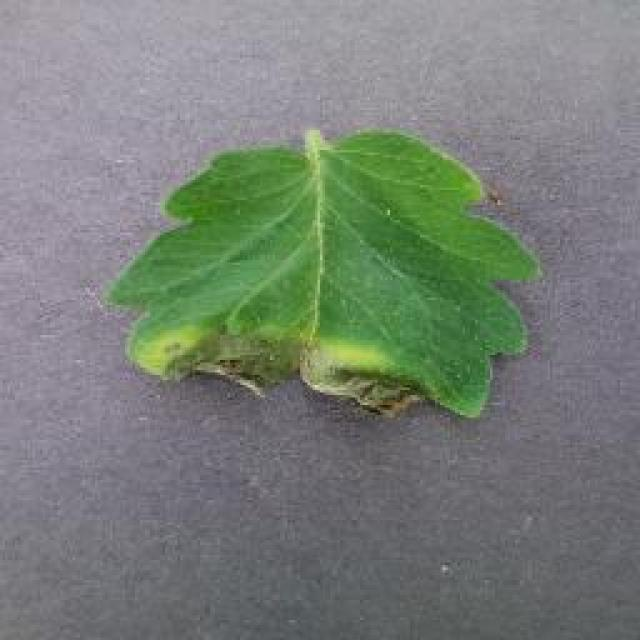Tomato Late Blight: (175, 312, 465, 438)
